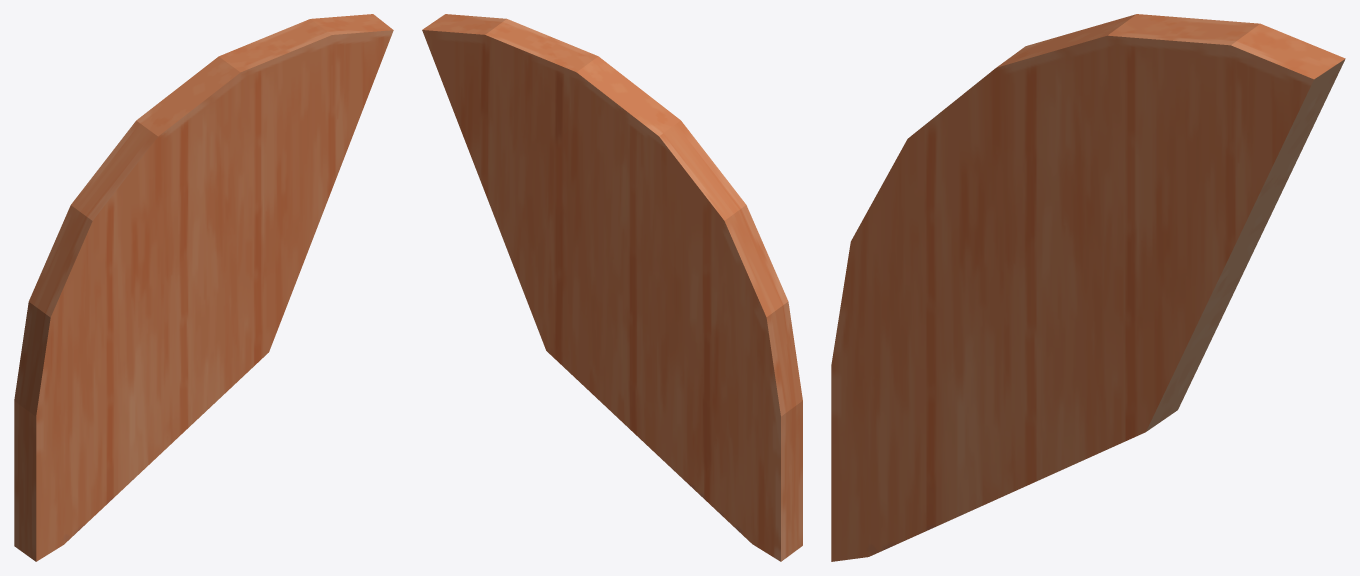
Rendered from door2_wood_s05.fbx.
The picture shows the model from 3 angles, left to right: view 1: azimuth 30°, elevation 25°; view 2: azimuth 150°, elevation 25°; view 3: azimuth 330°, elevation 25°; orthographic projection. The views are drawn at different scales.
Visible parts, largest first — view 1: door2_wood_s05; view 2: door2_wood_s05; view 3: door2_wood_s05.
Boxes of the visible parts, bbox=[...] form: door2_wood_s05: bbox=[14, 14, 393, 561]; door2_wood_s05: bbox=[422, 14, 802, 561]; door2_wood_s05: bbox=[831, 14, 1345, 561].
Bounding box in the file's own units: 2.65 × 3.2 × 0.28.
